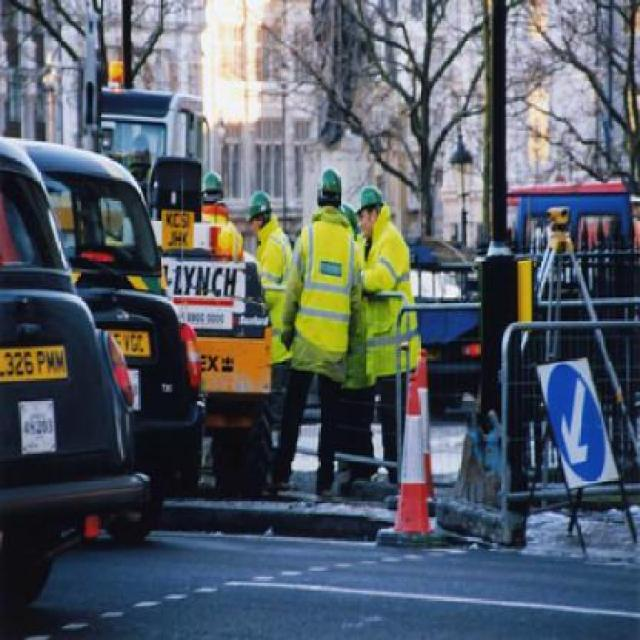Gloves: (279, 327, 297, 354)
Vest: (282, 212, 364, 380), (363, 198, 423, 374), (257, 208, 295, 364), (341, 229, 374, 391)
helmet: (316, 160, 344, 205), (247, 190, 271, 222), (198, 170, 225, 195), (356, 182, 384, 206)
person: (270, 164, 360, 503), (352, 185, 428, 487)
